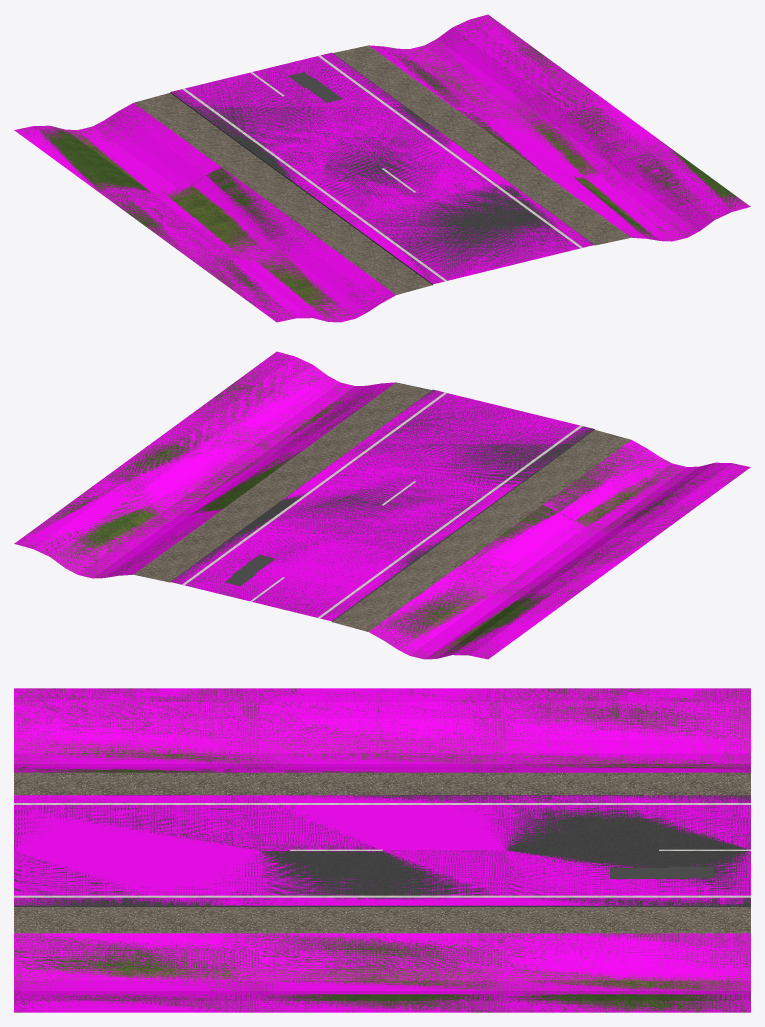
Rendered from EN_Road_Country2_24m.fbx.
3 views of the same model, one above another, from view 1: azimuth 30°, elevation 25°; view 2: azimuth 150°, elevation 25°; view 3: azimuth 270°, elevation 25° (orthographic). The views are drawn at different scales.
Parts seen in each view (by area): view 1: COL_DriveSurface, EN_Road_Country2_24m_Surface, EN_Road_Country2_24m_Markings, EN_Road_Country2_24m_Patches; view 2: COL_DriveSurface, EN_Road_Country2_24m_Surface, EN_Road_Country2_24m_Markings, EN_Road_Country2_24m_Patches; view 3: COL_DriveSurface, EN_Road_Country2_24m_Surface, EN_Road_Country2_24m_Markings, EN_Road_Country2_24m_Patches.
Boxes of the visible parts, box(x1,y1,x2,y2) form: COL_DriveSurface: box(14, 14, 750, 322); EN_Road_Country2_24m_Surface: box(17, 15, 750, 322); EN_Road_Country2_24m_Markings: box(182, 55, 582, 281); EN_Road_Country2_24m_Patches: box(288, 72, 342, 102); COL_DriveSurface: box(14, 351, 750, 659); EN_Road_Country2_24m_Surface: box(14, 352, 748, 658); EN_Road_Country2_24m_Markings: box(182, 392, 582, 618); EN_Road_Country2_24m_Patches: box(224, 554, 275, 586); COL_DriveSurface: box(14, 688, 750, 1012); EN_Road_Country2_24m_Surface: box(14, 688, 750, 1012); EN_Road_Country2_24m_Markings: box(14, 803, 750, 897); EN_Road_Country2_24m_Patches: box(610, 866, 714, 878).
Size of the model in its own units: 25 by 0.786 by 24.
